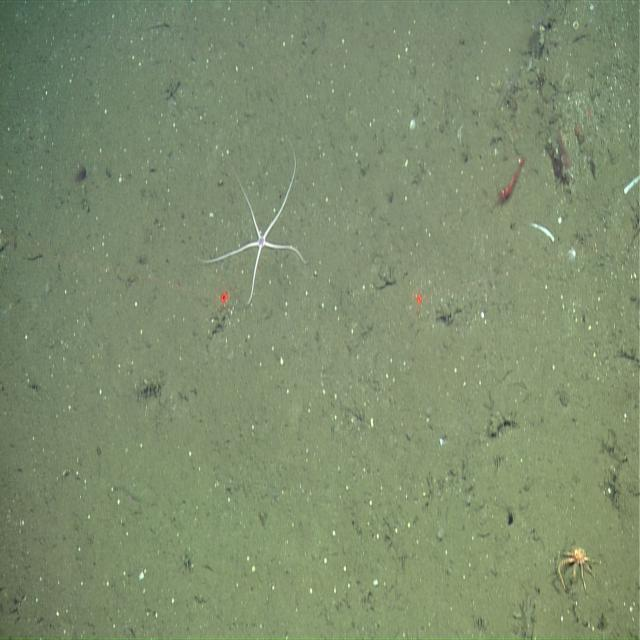Brittle Star: (197, 132, 310, 311)
Not Brittle Star: (554, 536, 602, 598), (492, 150, 528, 217)
